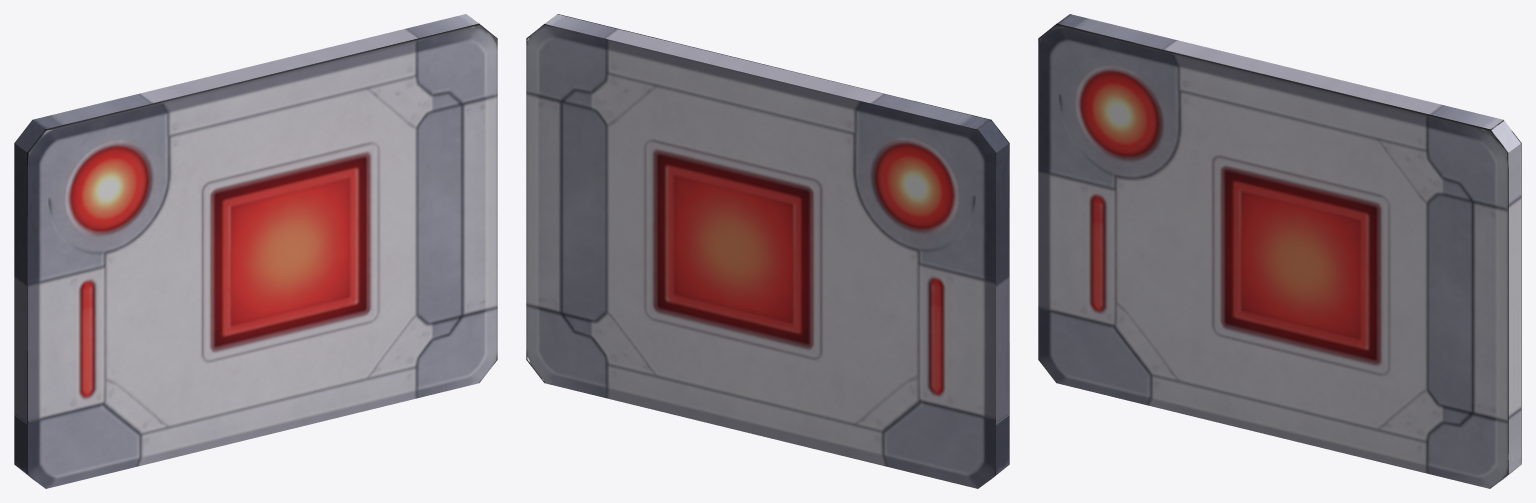
The model's file is pass_red.fbx.
3 renders of one model, left to right at view 1: azimuth 30°, elevation 25°; view 2: azimuth 150°, elevation 25°; view 3: azimuth 330°, elevation 25°, orthographic.
Visible parts, largest first — view 1: Cube.001; view 2: Cube.001; view 3: Cube.001.
Part boxes in pixels (x1,y1,x2,y2): Cube.001: (14,14,497,488); Cube.001: (526,14,1009,488); Cube.001: (1038,14,1521,488).
Size of the model in its own units: 260 by 190 by 12.96.
1 material, 1 textured.
